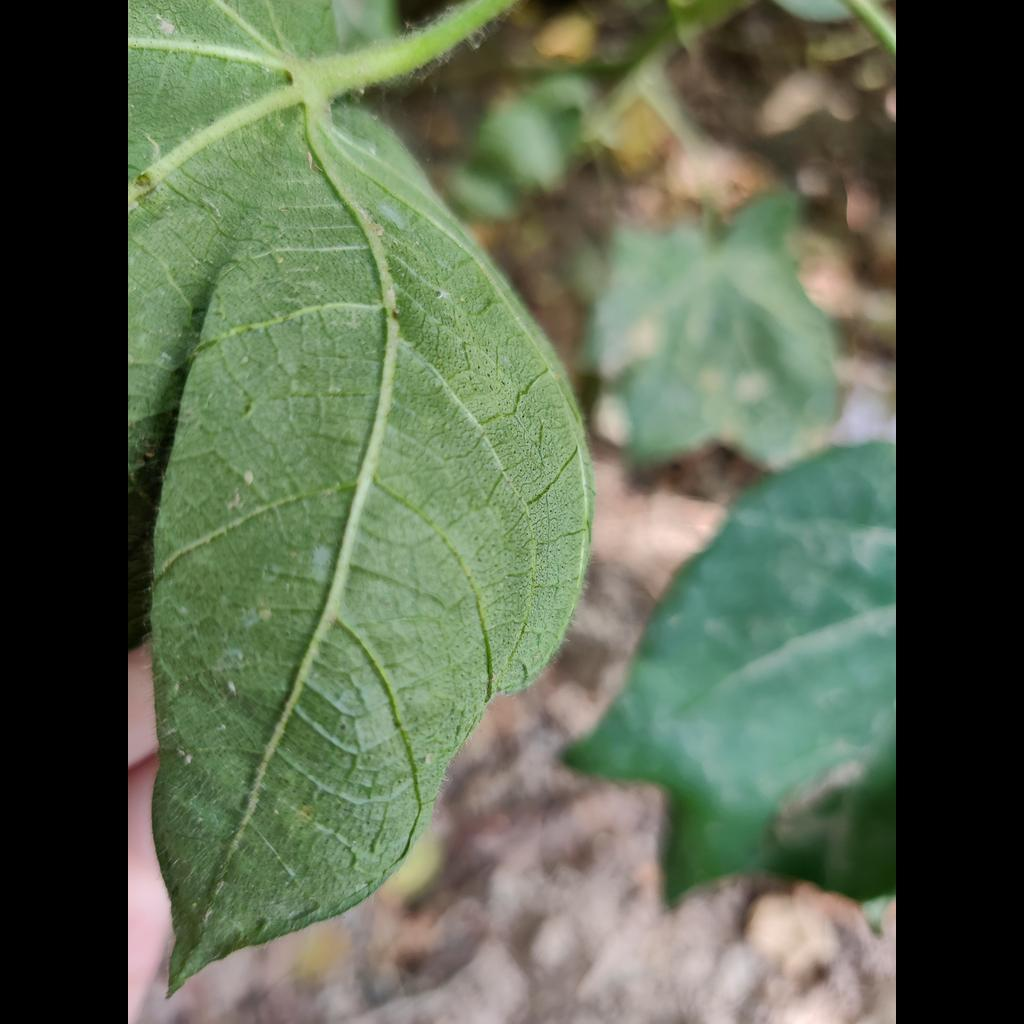nymph: (242, 469, 254, 486), (423, 752, 434, 766), (226, 680, 236, 694), (183, 754, 193, 765), (276, 257, 284, 263)
